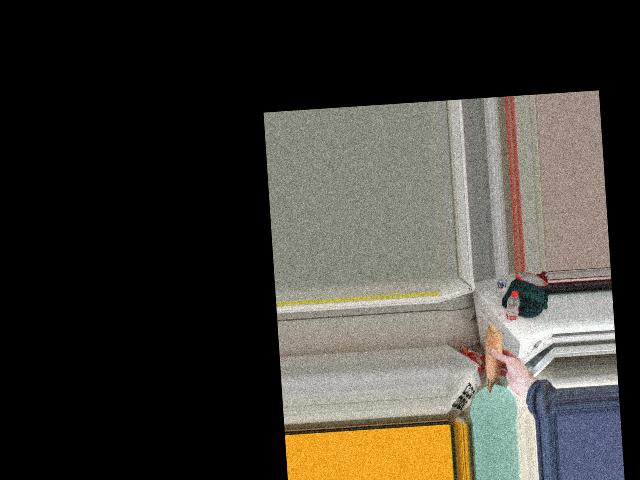sweet_potato: (481, 321, 510, 394)
